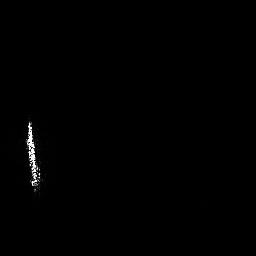ship: (25, 119, 44, 196)
